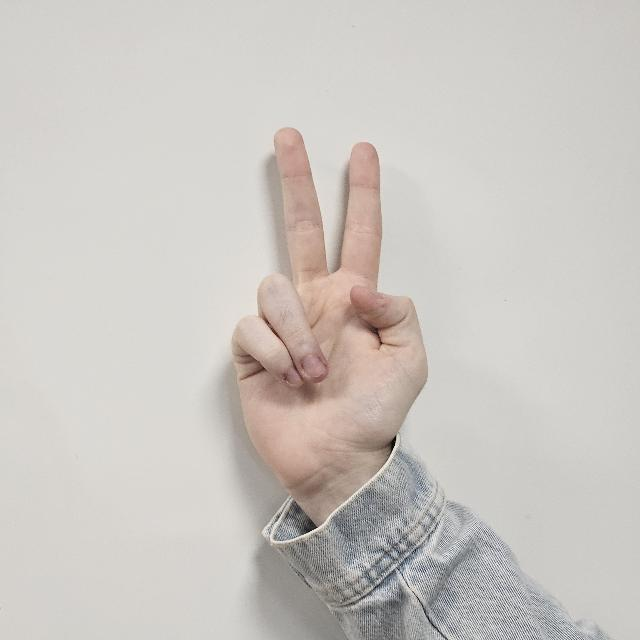Triangulo: (228, 126, 436, 478)
